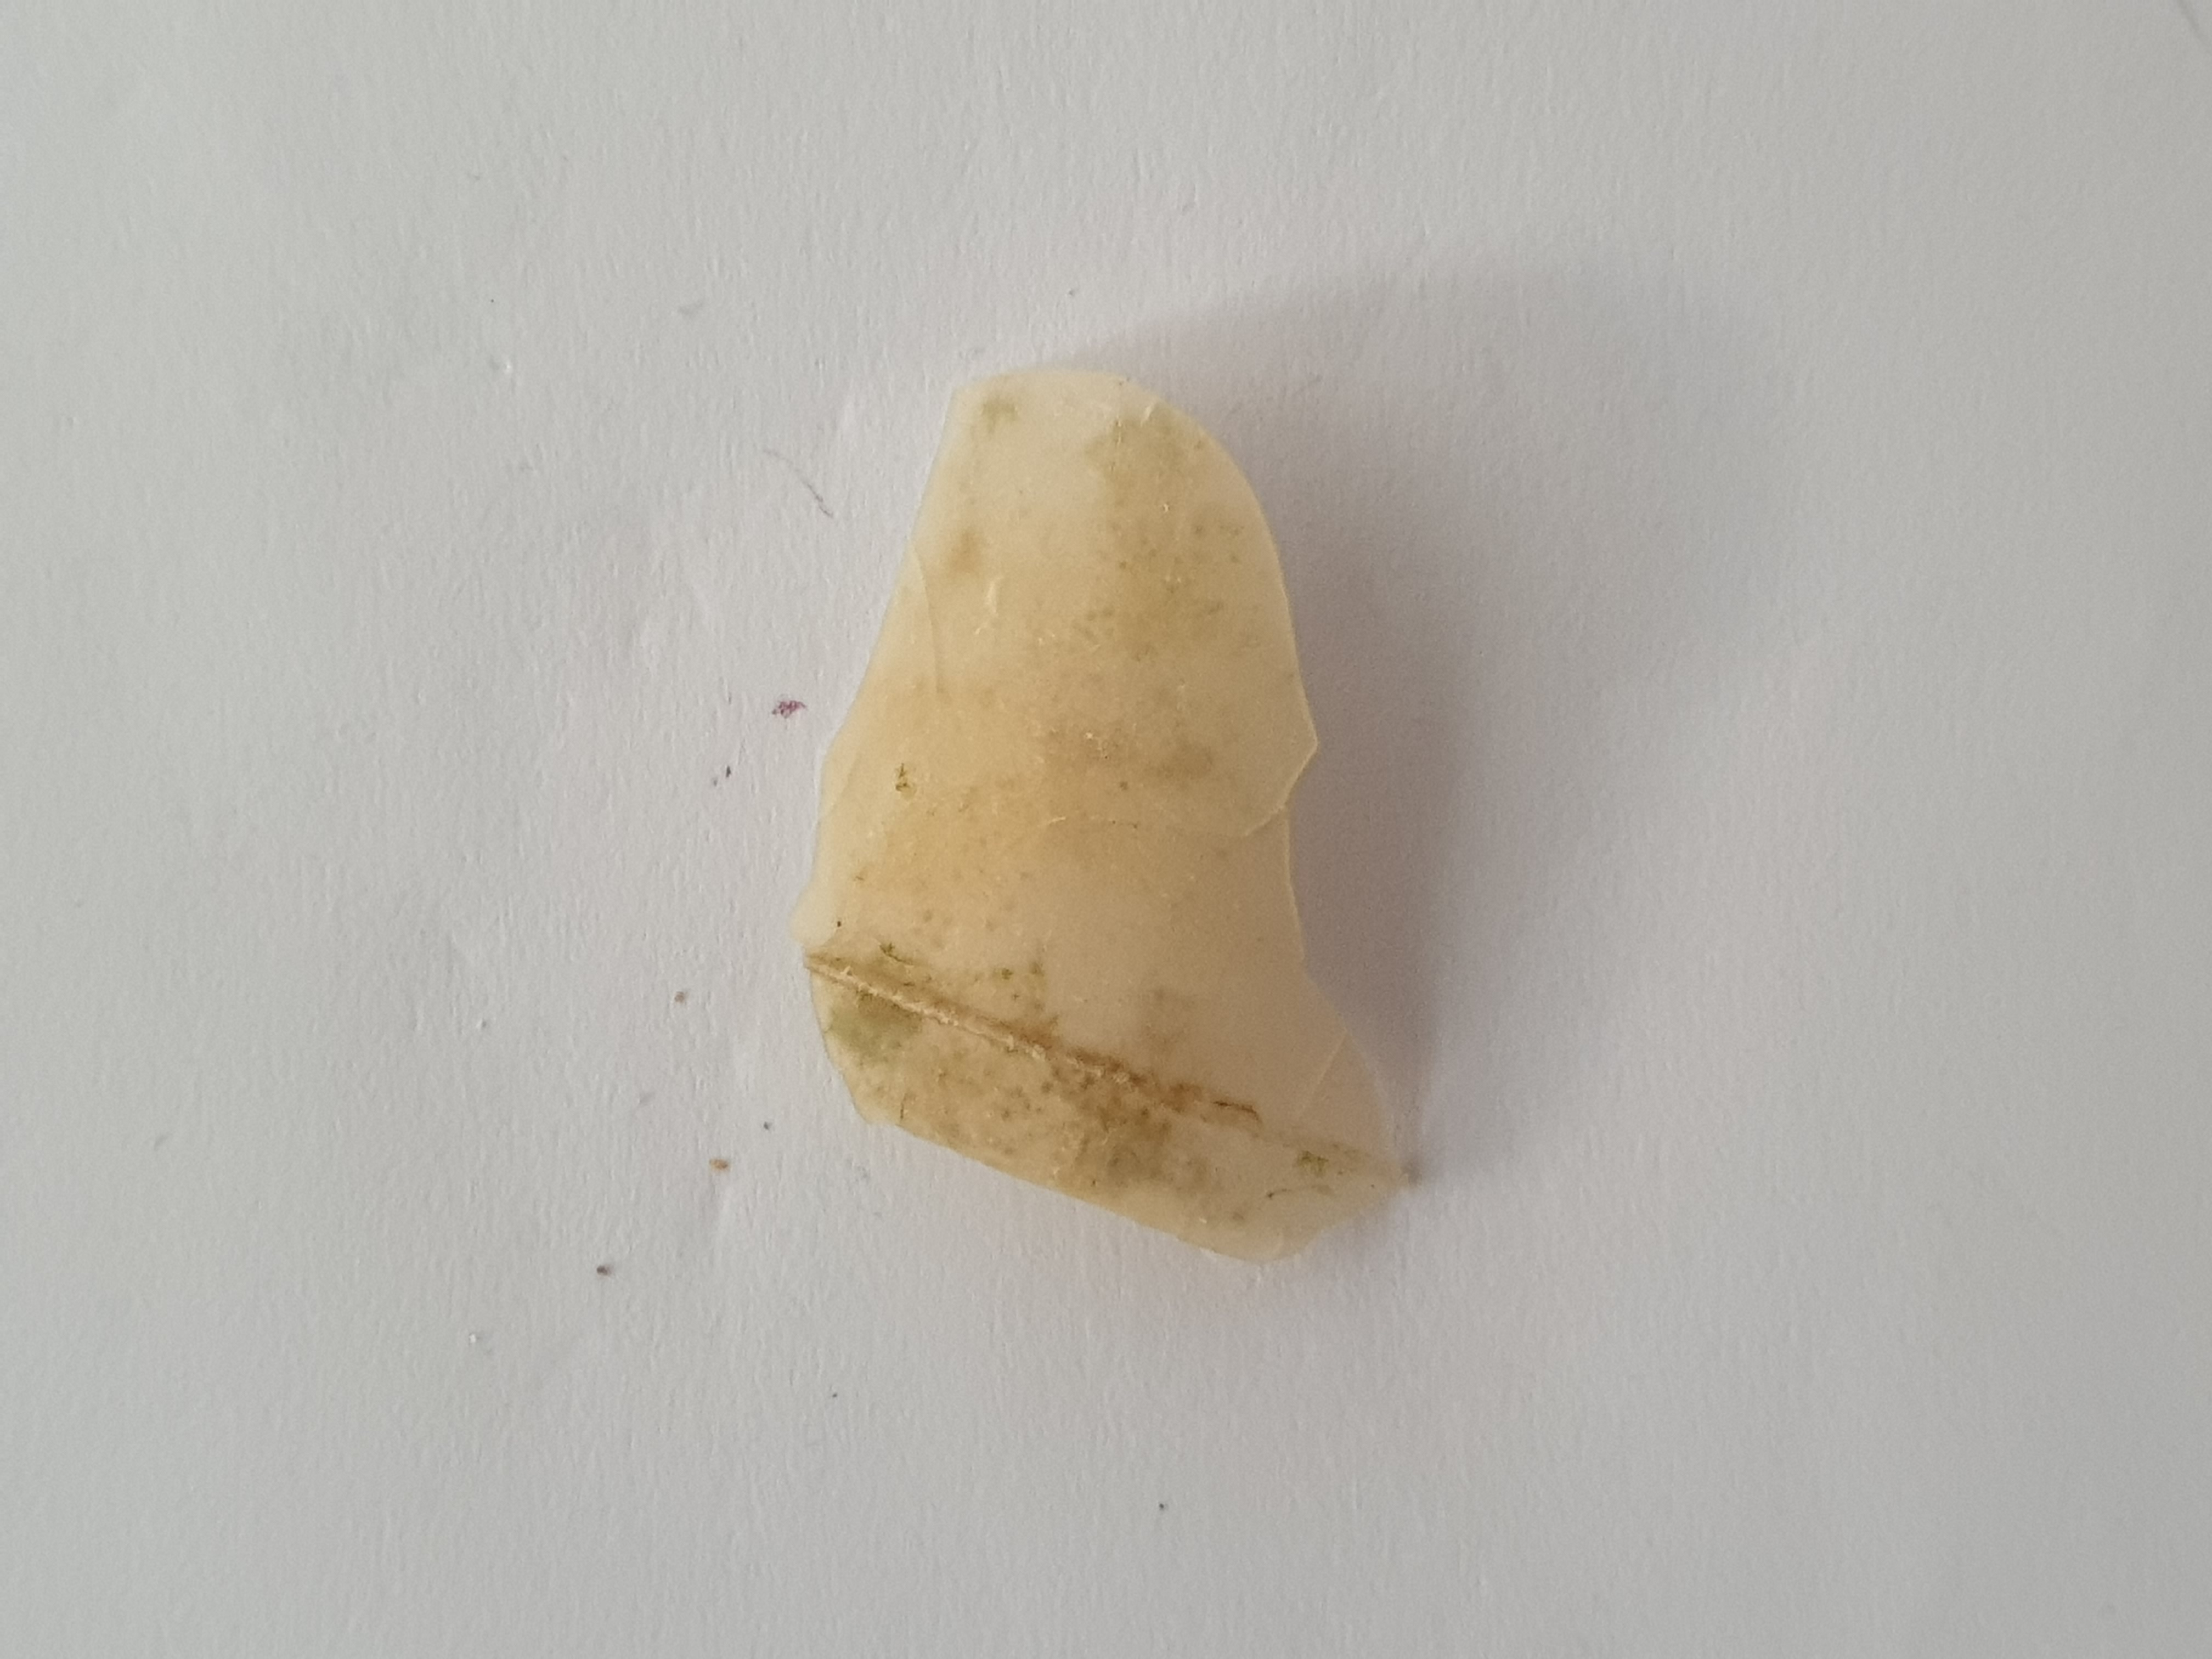plastic: (749, 328, 1444, 1300)
